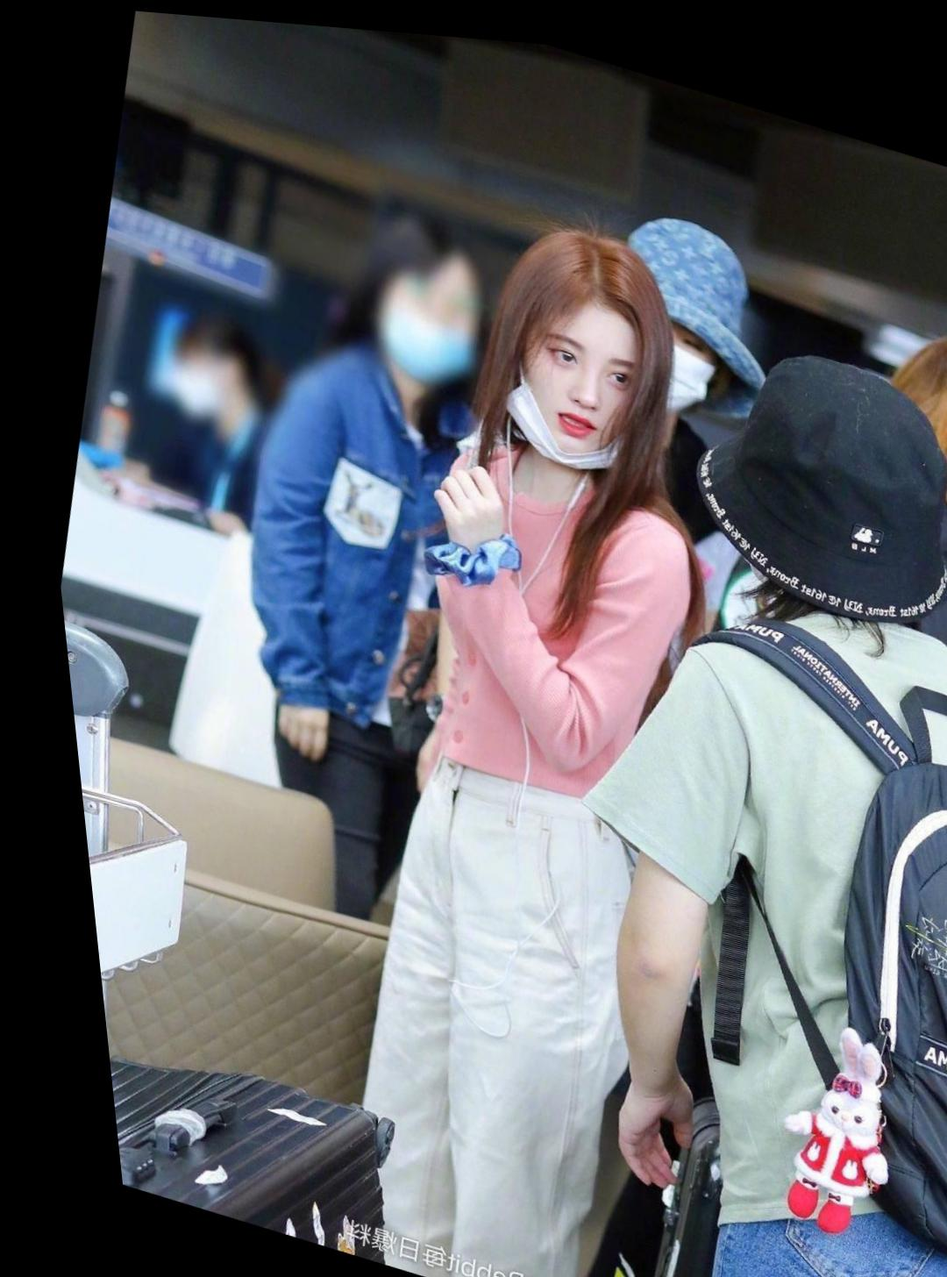OK: (599, 274, 728, 410), (370, 253, 489, 390), (159, 343, 232, 422)
WRONG: (493, 303, 650, 474)
